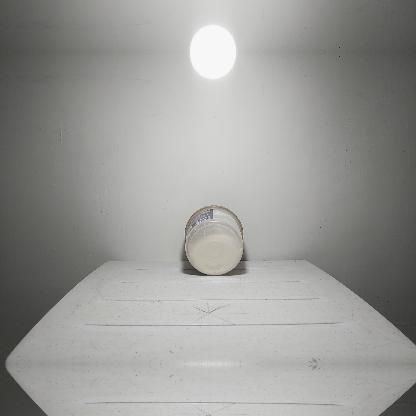Lady-s-Choice: (185, 204, 243, 275)
